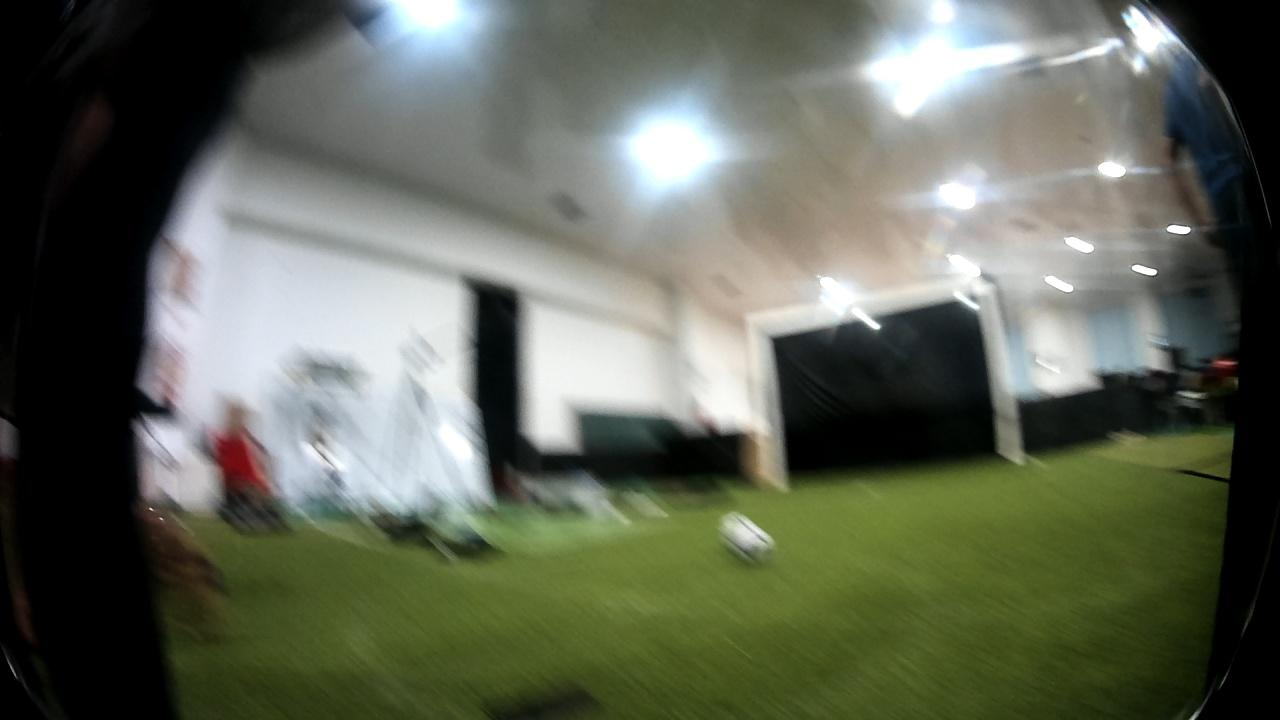ball: (712, 505, 779, 574)
